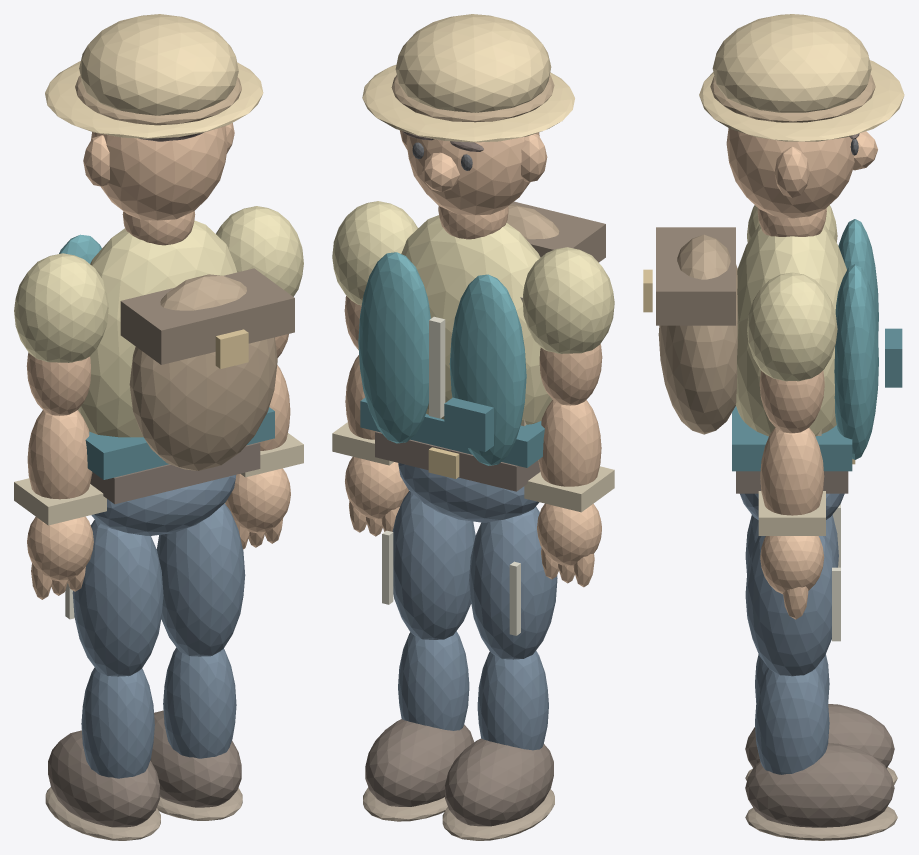
The model's file is survivor_idle_POSE_DIAGNOSTIC.glb.
3 renders of one model, left to right at view 1: azimuth 30°, elevation 25°; view 2: azimuth 150°, elevation 25°; view 3: azimuth 270°, elevation 25°, orthographic. The views are drawn at different scales.
Parts seen in each view (by area): view 1: pack_body, hat_crown, torso_shirt, L_thigh, R_thigh, pack_flap, head_skin, L_sleeve, L_shin, R_shin, L_boot, hat_brim (+19 smaller); view 2: hat_crown, vest_right, torso_shirt, vest_left, R_thigh, L_thigh, L_sleeve, L_boot, R_boot, R_shin, L_shin, head_skin (+26 smaller); view 3: hat_crown, pack_body, torso_shirt, R_boot, R_sleeve, R_thigh, head_skin, vest_right, R_shin, pack_flap, hat_brim, R_forearm (+19 smaller).
Part boxes in pixels (x1,y1,x2,y2): pack_body: (129,274,277,470); hat_crown: (79,14,238,115); torso_shirt: (78,220,236,437); L_thigh: (72,519,163,676); R_thigh: (156,503,245,656); pack_flap: (120,268,294,364); head_skin: (91,126,227,220); L_sleeve: (14,253,108,362); L_shin: (81,667,154,778); R_shin: (163,647,236,758); L_boot: (48,730,159,827); hat_brim: (45,61,263,138); hat_crown: (395,14,551,112); vest_right: (358,252,430,443); torso_shirt: (401,215,552,424); vest_left: (449,274,526,465); R_thigh: (392,491,475,639); L_thigh: (469,507,557,659); L_sleeve: (522,247,614,353); L_boot: (445,738,553,826); R_boot: (365,719,474,806); R_shin: (398,631,469,730); L_shin: (477,650,548,750); head_skin: (406,132,539,215); hat_crown: (712,14,871,112); pack_body: (658,234,737,434); torso_shirt: (735,224,846,436); R_boot: (745,743,894,827); R_sleeve: (747,272,837,381); R_thigh: (745,536,835,676); head_skin: (726,128,854,218); vest_right: (834,264,878,459); R_shin: (755,667,829,774); pack_flap: (656,227,735,325); hat_brim: (699,60,904,141); R_forearm: (760,427,824,515).
Size of the model in its own units: 0.676 by 1.85 by 0.5577.
